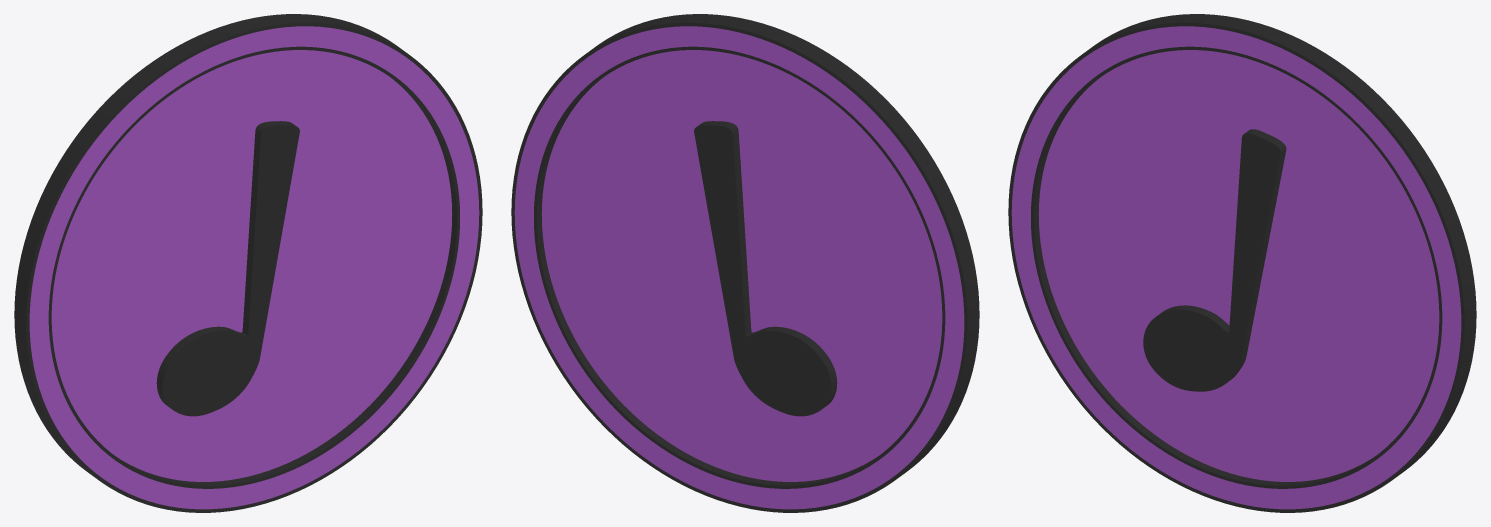
The model's file is MedalNote_4.glb.
The picture shows the model from 3 angles, left to right: view 1: azimuth 30°, elevation 25°; view 2: azimuth 150°, elevation 25°; view 3: azimuth 330°, elevation 25°; orthographic projection.
Parts seen in each view (by area): view 1: Circle, Note_4; view 2: Circle, Note_4; view 3: Circle, Note_4.
Part boxes in pixels (left/top/right/bottom): Circle: left=14, top=14, right=482, bottom=512; Note_4: left=156, top=121, right=299, bottom=416; Circle: left=511, top=14, right=979, bottom=512; Note_4: left=694, top=121, right=837, bottom=416; Circle: left=1008, top=14, right=1476, bottom=512; Note_4: left=1143, top=129, right=1286, bottom=391.
Bounding box in the file's own units: 2 × 2 × 0.1.
